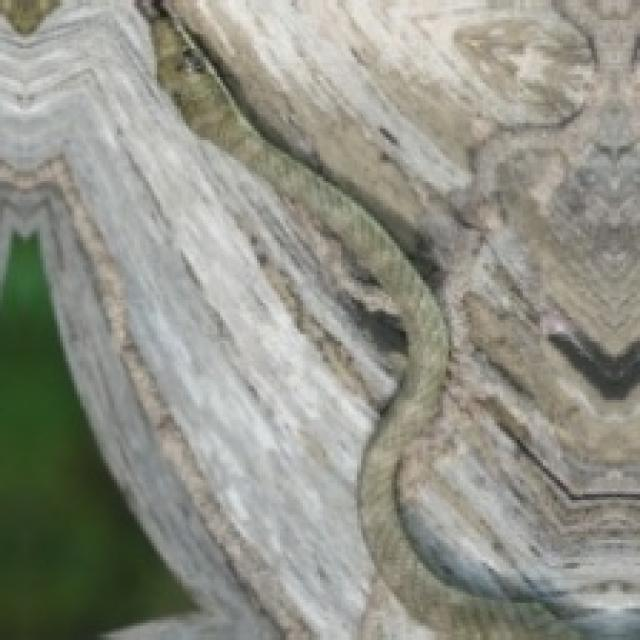paradise tree snake: (0, 0, 637, 637), (149, 0, 637, 637)
